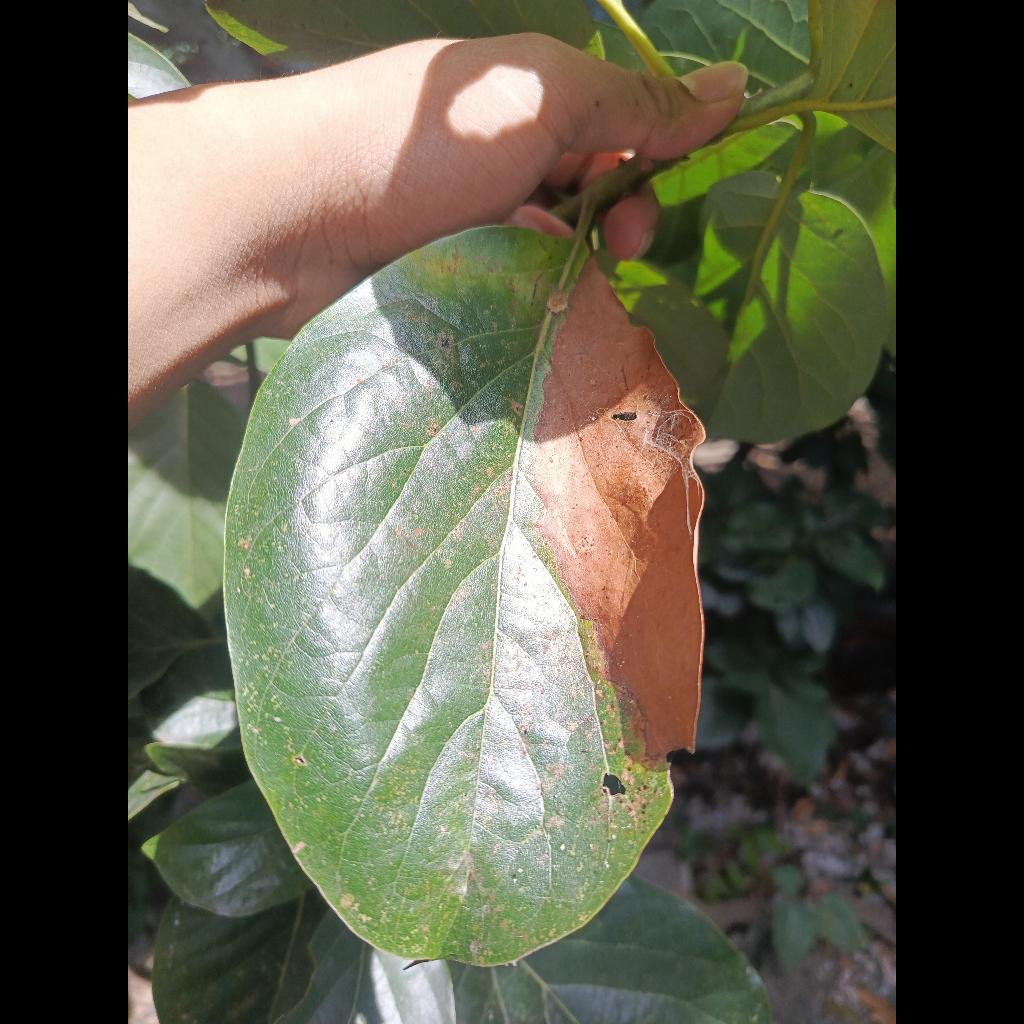antracnosis_hoja: (224, 227, 702, 966)
